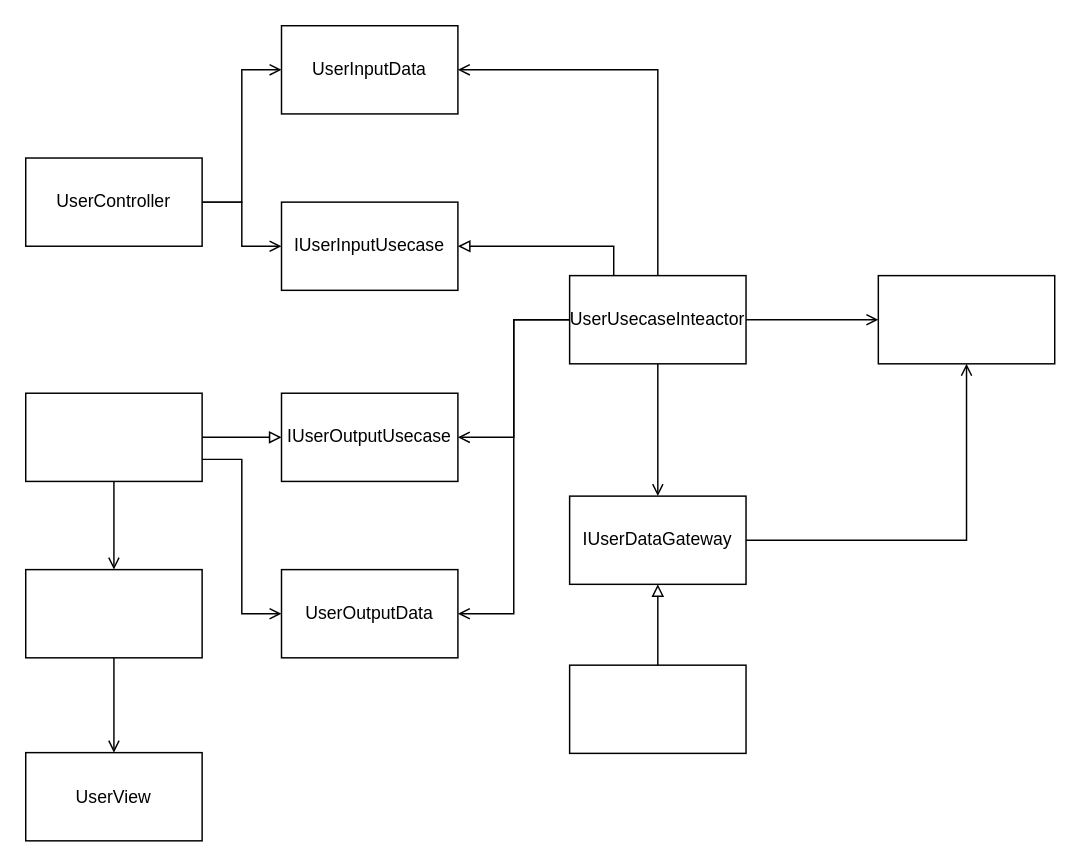
The diagram is 1080 pixels wide and 867 high, and some of its shapes have lost their labels. The centre of each missing label's shape, as x and y in pixels:
"UserDataAccess" goes at (657,708).
"UserEntity" goes at (966,319).
"UserPresenter" goes at (113,436).
"UserViewModel" goes at (113,613).
